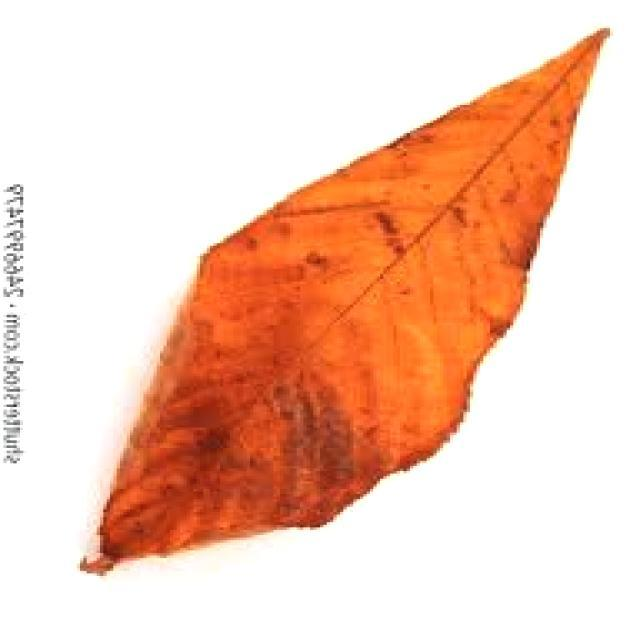leaf: (78, 25, 611, 575)
